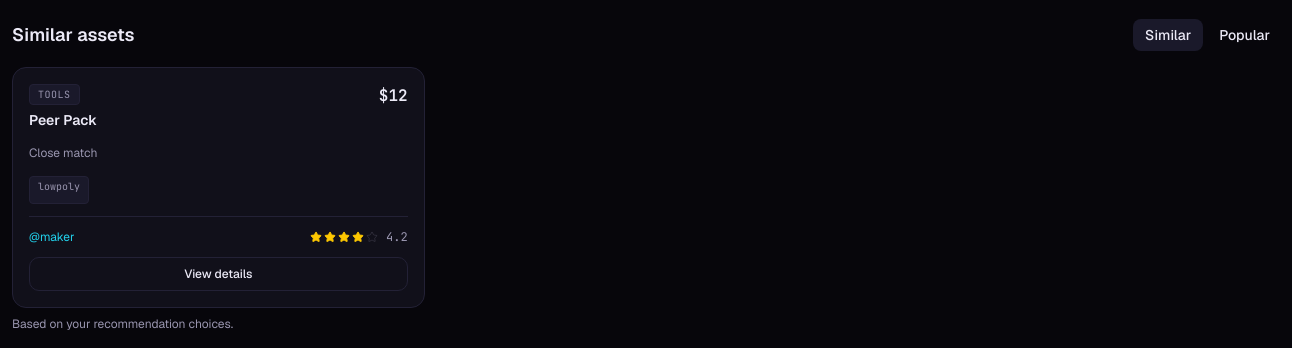
it: SimilarAssetsBlock › shows explanations from the matching cached response on mode and personal switches
Check: the heading "Peer Pack" is shown, box [29,111,97,130]
Check: the text "Based on your recommendation choices." is shown, box [12,316,233,332]
# Mode switch: popularity response text.
Click the button "Popular" at (1245, 35), box [1207,19,1282,51]
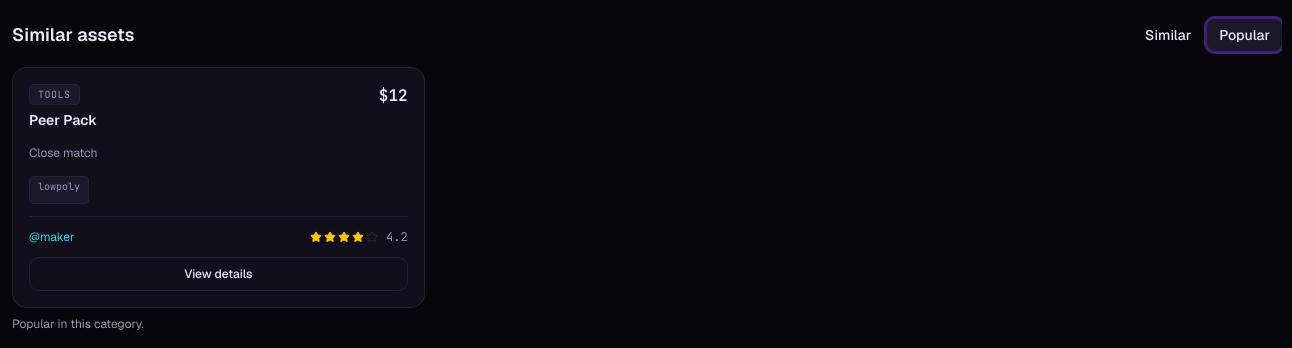
Check: the text "Popular in this category." is shown, box [12,316,144,332]
Check: the text "Based on your recommendation choices." is gone
